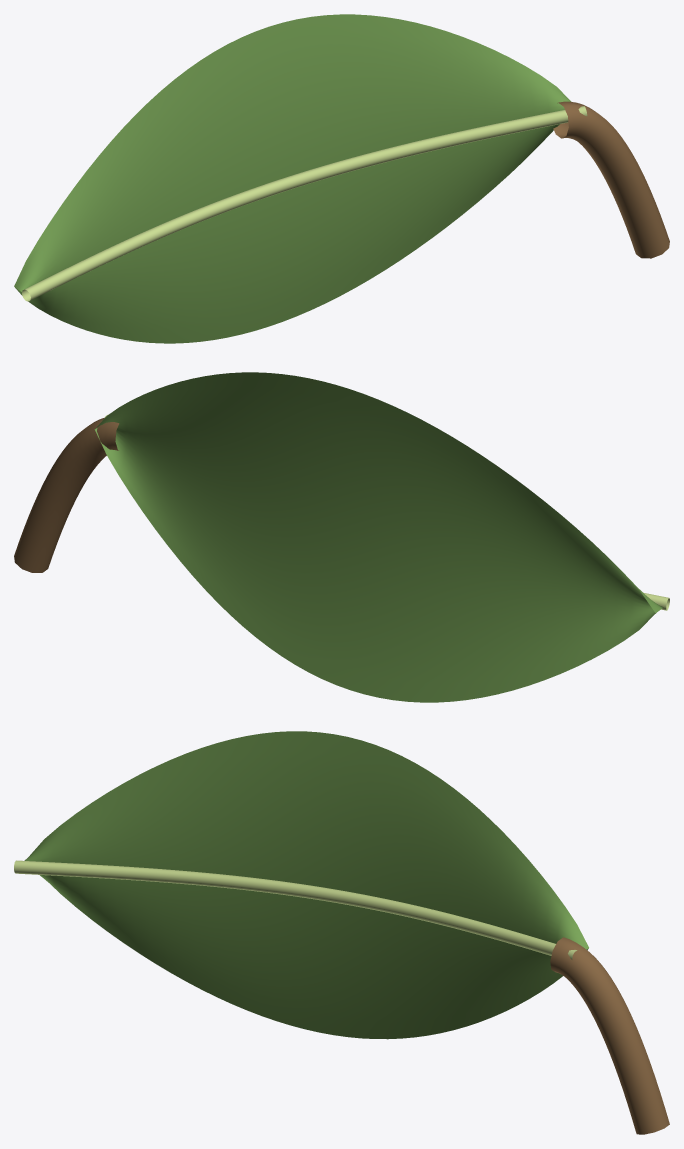
The model's file is 08-forest-leaf.glb.
3 renders of one model, top to bottom at view 1: azimuth 30°, elevation 25°; view 2: azimuth 150°, elevation 25°; view 3: azimuth 330°, elevation 25°, orthographic.
Parts seen in each view (by area): view 1: forest_leaf, forest_leaf_vein, forest_petiole; view 2: forest_leaf, forest_petiole; view 3: forest_leaf, forest_leaf_vein, forest_petiole.
Part boxes in pixels (x1,y1,x2,y2): forest_leaf: (14,14,571,343); forest_leaf_vein: (22,106,587,301); forest_petiole: (553,101,669,258); forest_leaf: (94,372,663,702); forest_petiole: (14,418,119,572); forest_leaf: (24,731,588,1039); forest_leaf_vein: (14,860,577,959); forest_petiole: (550,937,669,1134).
Size of the model in its own units: 0.9017 by 0.4023 by 0.102.
